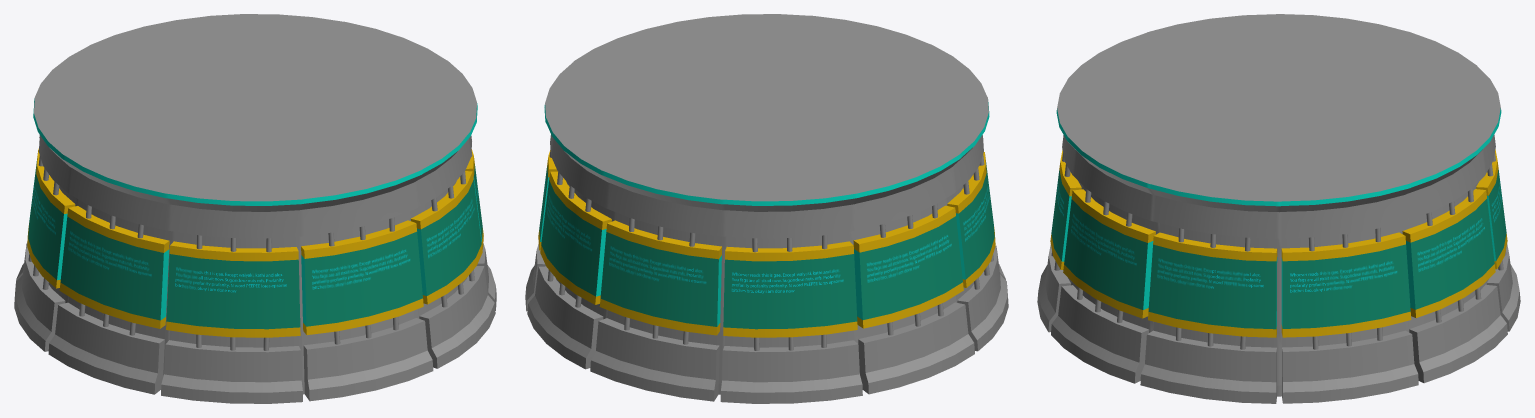
Rendered from ThirdFloor.fbx.
The picture shows the model from 3 angles, left to right: view 1: azimuth 30°, elevation 25°; view 2: azimuth 150°, elevation 25°; view 3: azimuth 270°, elevation 25°; orthographic projection.
Visible parts, largest first — view 1: ThirdFloorSegment7; view 2: ThirdFloorSegment7; view 3: ThirdFloorSegment7.
Boxes of the visible parts, x1,y1,x2,y2 form: ThirdFloorSegment7: [14, 14, 496, 403]; ThirdFloorSegment7: [525, 14, 1008, 403]; ThirdFloorSegment7: [1037, 14, 1520, 403].
Size of the model in its own units: 884 by 393 by 884.
